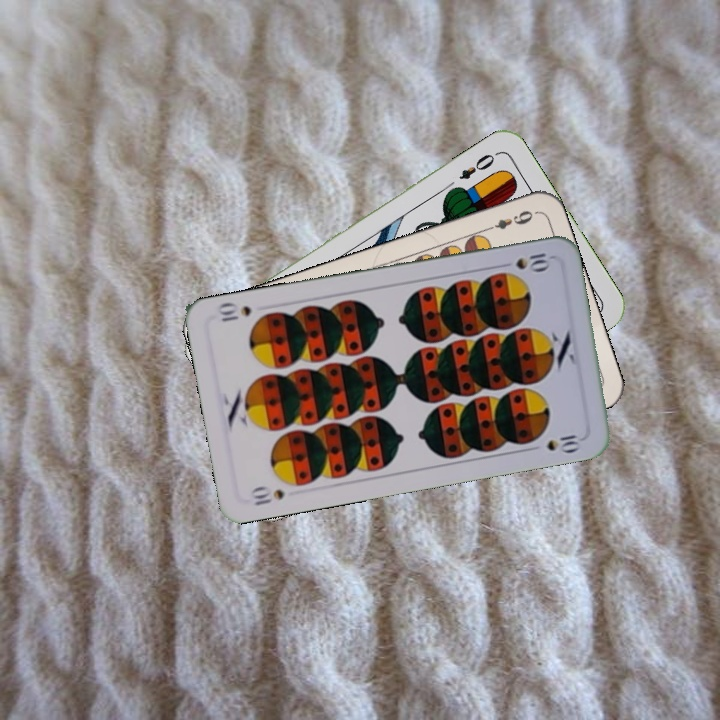E9: (481, 206, 538, 234)
EO: (455, 148, 501, 182)
S10: (495, 249, 554, 273), (247, 482, 287, 509)
